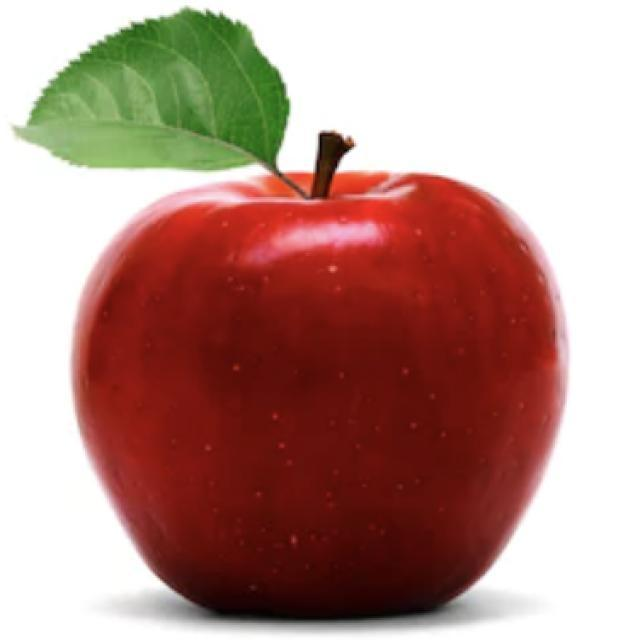Apple: (69, 131, 570, 619)
